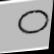no answer: (16, 6, 51, 36)
